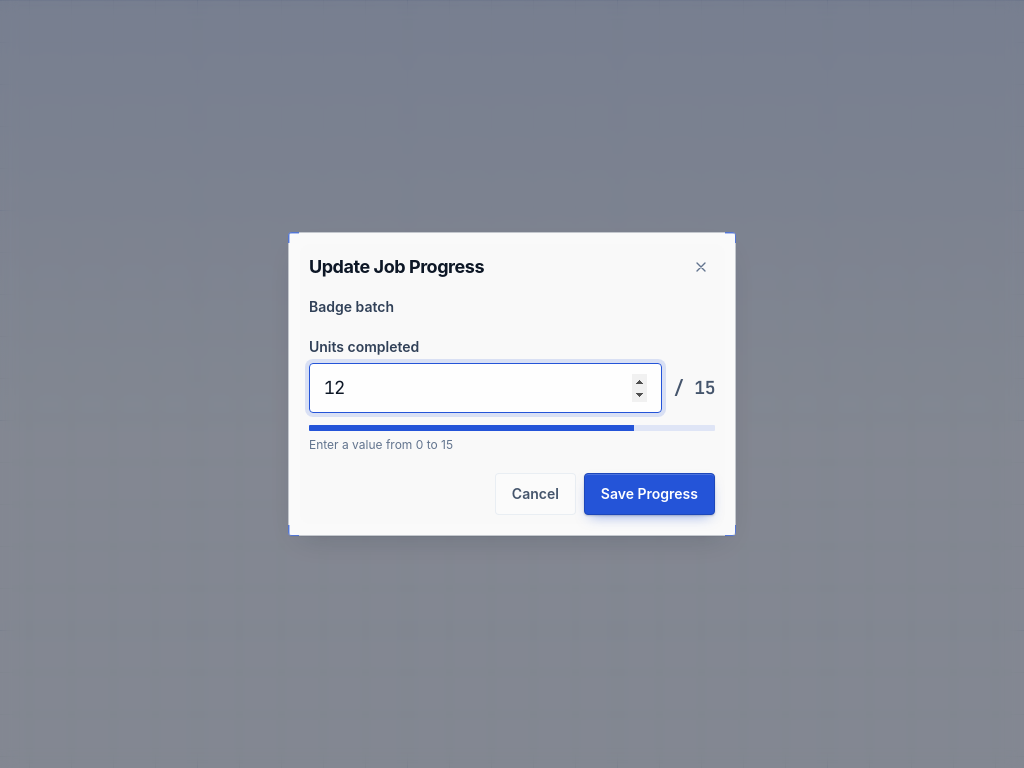
it: job progress UI › keeps the editor open and reports a failed write
Check: the number field labelled "Units completed" holds "12", box left=309, top=363, right=662, bottom=413
Click the button "Save Progress" at [649, 494], box left=584, top=473, right=715, bottom=515
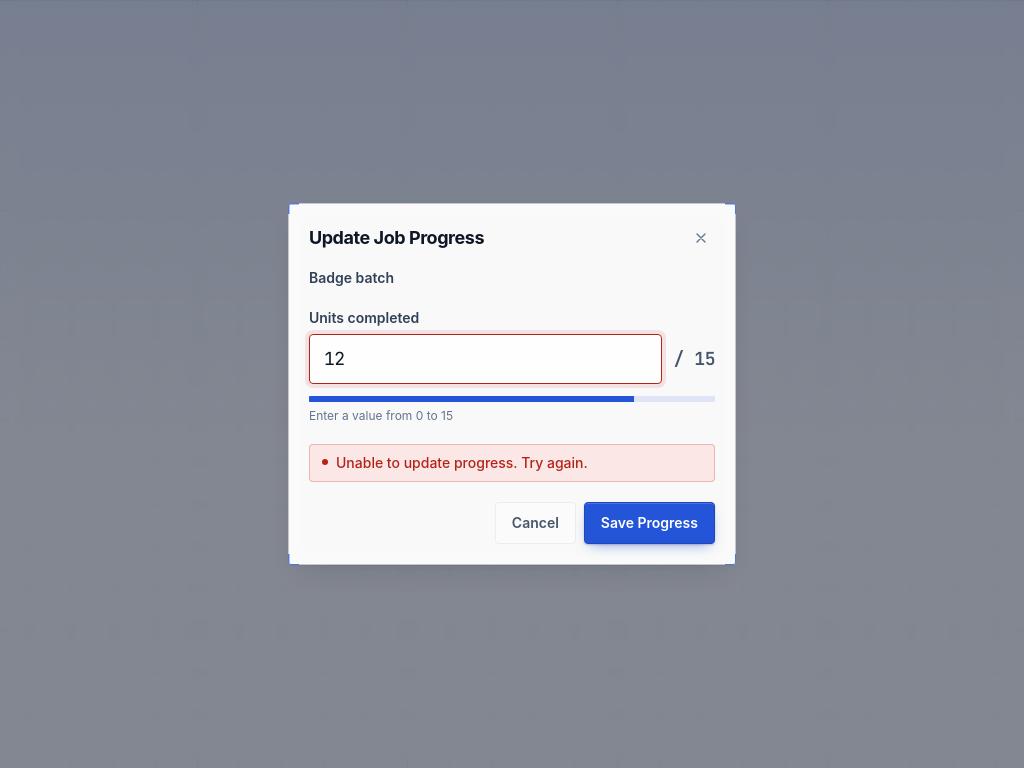
Check: the dialog is shown, box left=288, top=203, right=736, bottom=565
Check: the message reads "Unable to update progress. Try again.", box left=336, top=454, right=588, bottom=471
